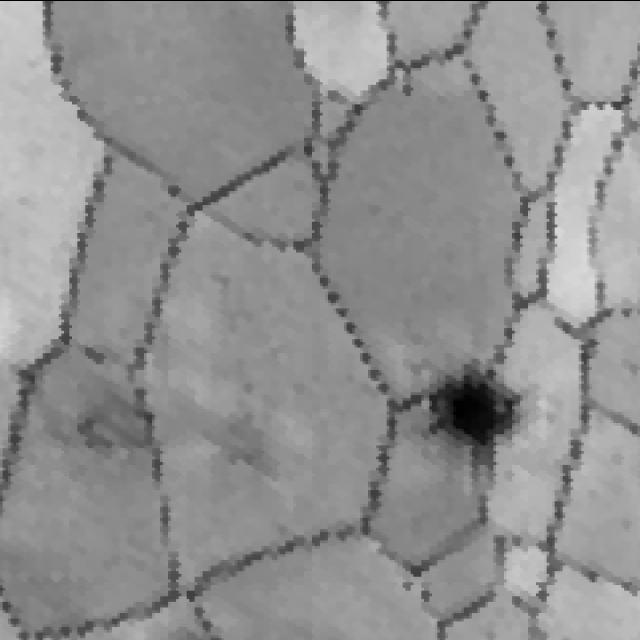good_void: (409, 354, 531, 478), (60, 379, 160, 475), (193, 379, 277, 478), (401, 557, 435, 611)
